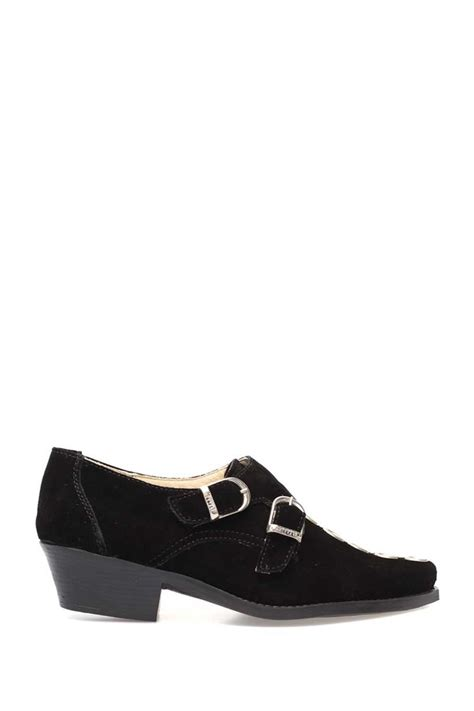gamuza: (36, 447, 438, 607)
